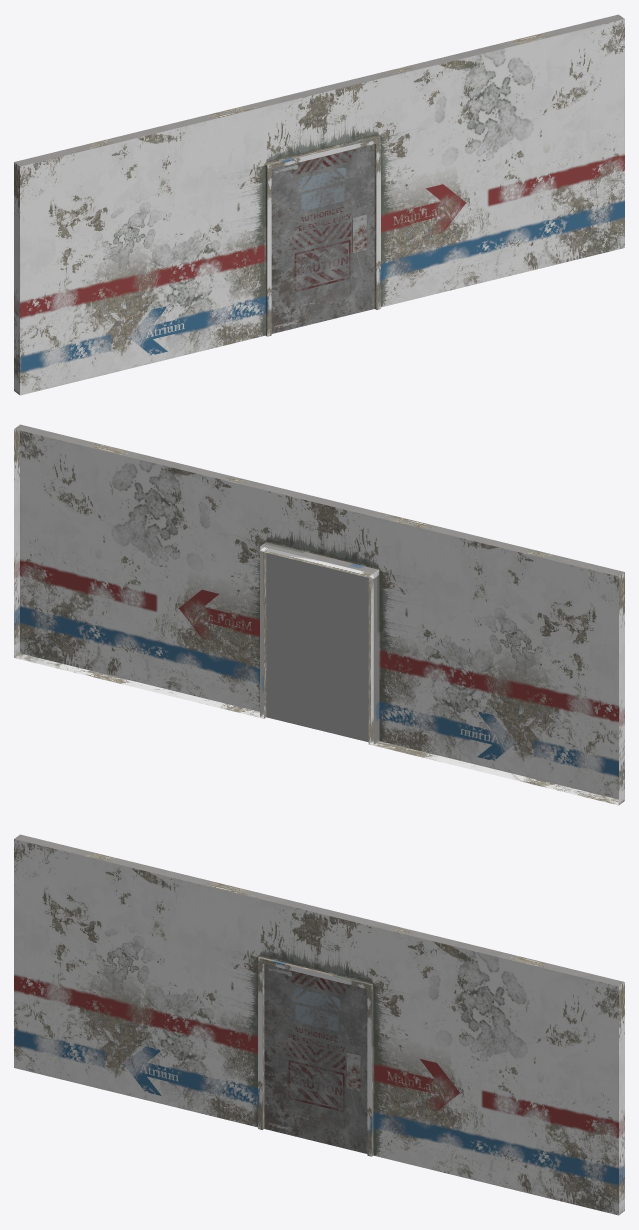
The model's file is wall-horror.glb.
The picture shows the model from 3 angles, top to bottom: view 1: azimuth 30°, elevation 25°; view 2: azimuth 150°, elevation 25°; view 3: azimuth 330°, elevation 25°; orthographic projection.
Parts seen in each view (by area): view 1: g; view 2: g; view 3: g.
Boxes of the visible parts, <box> form: g: <box>14,14,624,395</box>; g: <box>14,424,624,805</box>; g: <box>14,834,624,1215</box>.
Bounding box in the file's own units: 2 × 0.7235 × 0.0442.
1 material, 1 textured.
